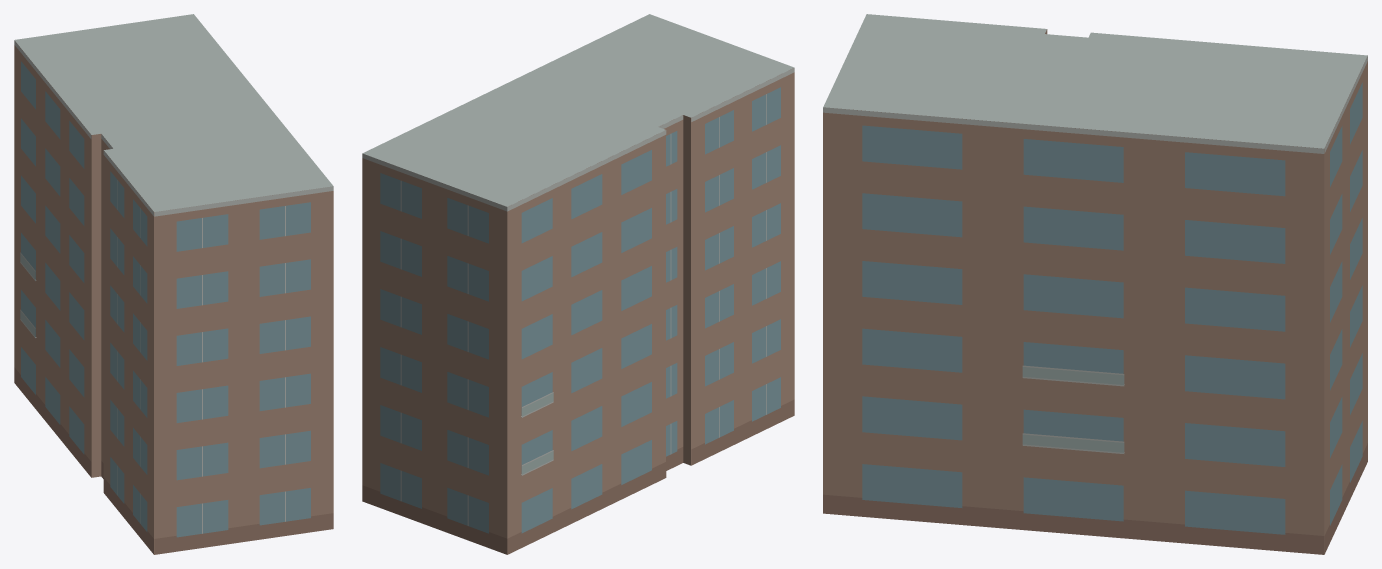
File: survey-upis-32653030.glb
The picture shows the model from 3 angles, left to right: view 1: azimuth 30°, elevation 25°; view 2: azimuth 150°, elevation 25°; view 3: azimuth 270°, elevation 25°; orthographic projection. The views are drawn at different scales.
Parts seen in each view (by area): view 1: survey-upis-32653030.tmp; view 2: survey-upis-32653030.tmp; view 3: survey-upis-32653030.tmp.
Boxes of the visible parts, left/top/right/bottom form: survey-upis-32653030.tmp: left=14, top=14, right=333, bottom=554; survey-upis-32653030.tmp: left=362, top=14, right=794, bottom=554; survey-upis-32653030.tmp: left=823, top=14, right=1367, bottom=554.
Bounding box in the file's own units: 13.02 × 18.3 × 22.25.
